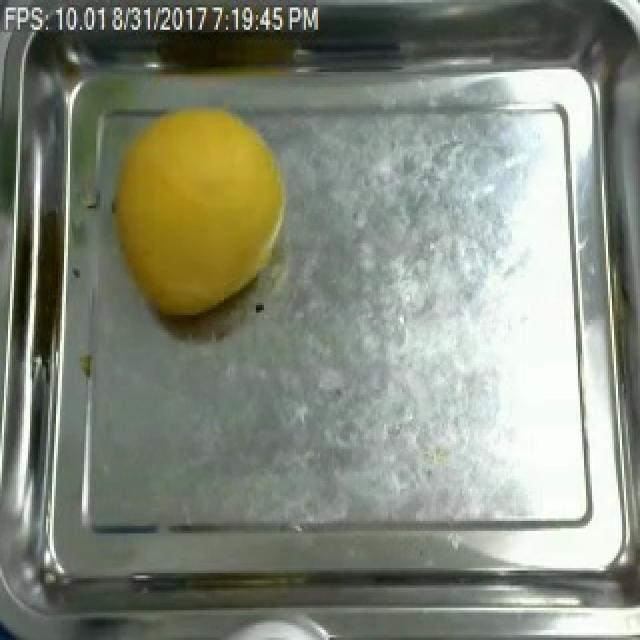fruit: (96, 97, 298, 332)
